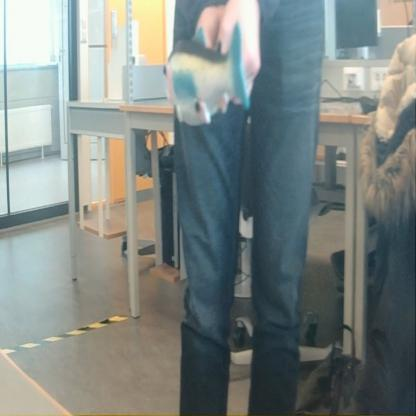rubberfish: (161, 18, 254, 128)
